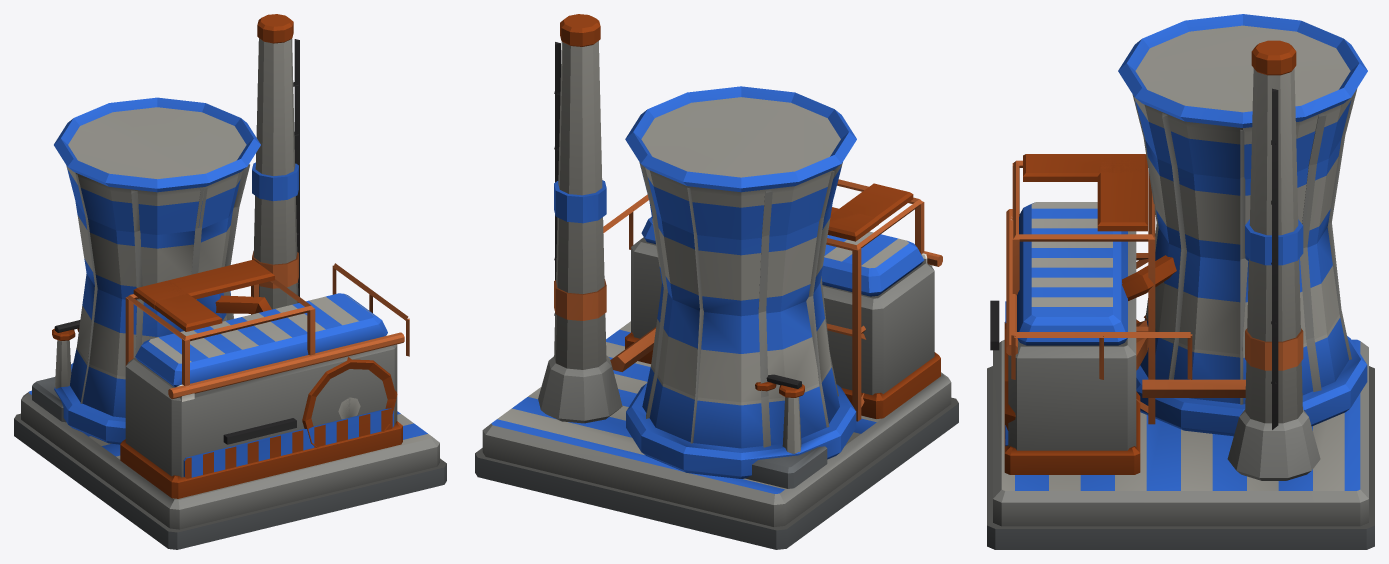
3 renders of one model, left to right at view 1: azimuth 30°, elevation 25°; view 2: azimuth 150°, elevation 25°; view 3: azimuth 270°, elevation 25°, orthographic. The views are drawn at different scales.
Parts seen in each view (by area): view 1: body, scaffoldFrame; view 2: body, scaffoldFrame; view 3: body, scaffoldFrame.
Boxes of the visible parts, box(x1,y1,x2,y2) form: body: box(14, 14, 446, 549); scaffoldFrame: box(125, 259, 315, 385); body: box(475, 14, 958, 549); scaffoldFrame: box(826, 179, 924, 421); body: box(987, 14, 1374, 549); scaffoldFrame: box(1012, 154, 1155, 424).
Bounding box in the file's own units: 2 × 2.67 × 2.
